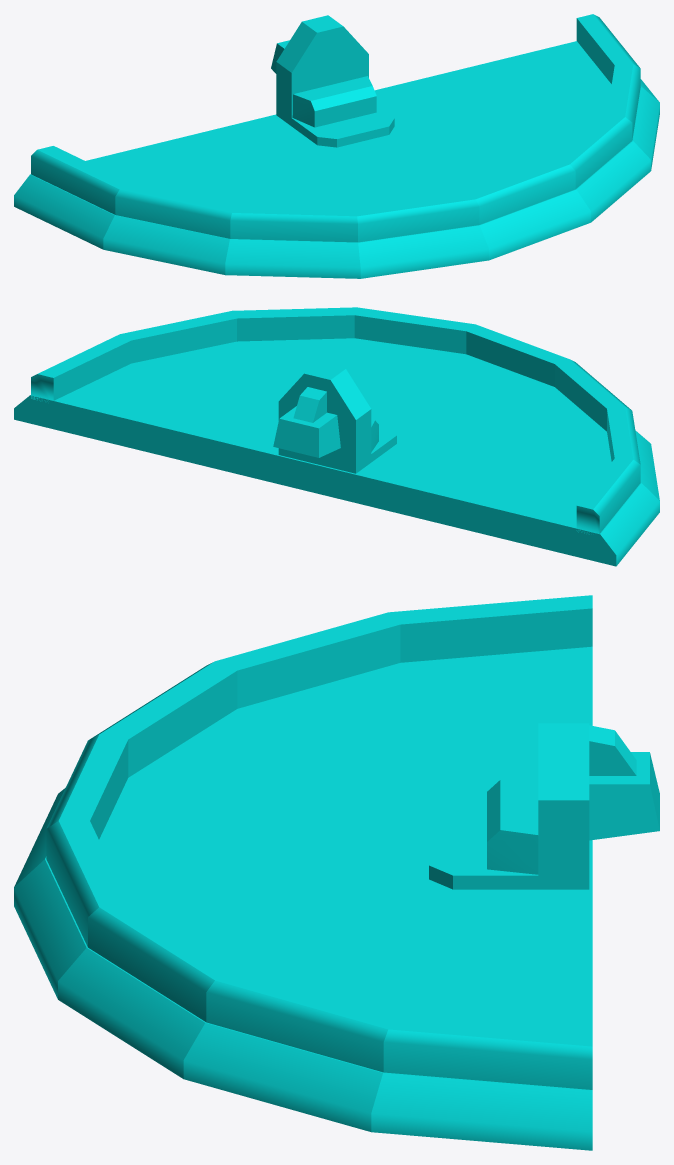
Rendered from SM_Prop_Fountain_Insert_01_Collision.fbx.
The picture shows the model from 3 angles, top to bottom: view 1: azimuth 30°, elevation 25°; view 2: azimuth 150°, elevation 25°; view 3: azimuth 270°, elevation 25°; orthographic projection. The views are drawn at different scales.
Visible parts, largest first — view 1: SM_Prop_Fountain_Insert_01_Collision; view 2: SM_Prop_Fountain_Insert_01_Collision; view 3: SM_Prop_Fountain_Insert_01_Collision.
Part boxes in pixels (x1,y1,x2,y2): SM_Prop_Fountain_Insert_01_Collision: [14, 14, 659, 278]; SM_Prop_Fountain_Insert_01_Collision: [14, 307, 659, 566]; SM_Prop_Fountain_Insert_01_Collision: [14, 595, 659, 1150].
Bounding box in the file's own units: 617 × 113 × 344.
